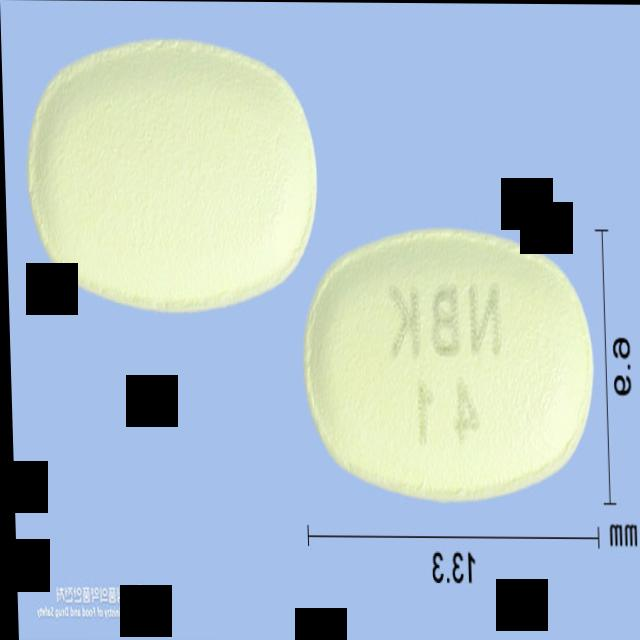Lathrocin: (25, 36, 320, 313), (297, 226, 595, 500)
